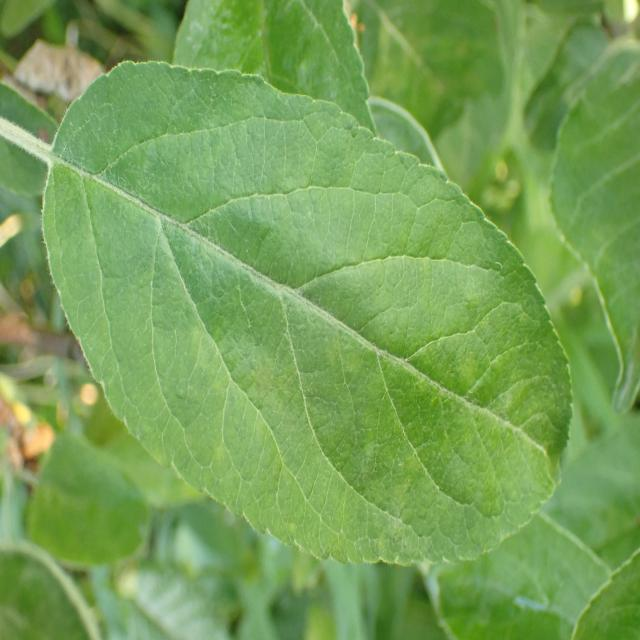scab: (85, 160, 542, 554)
